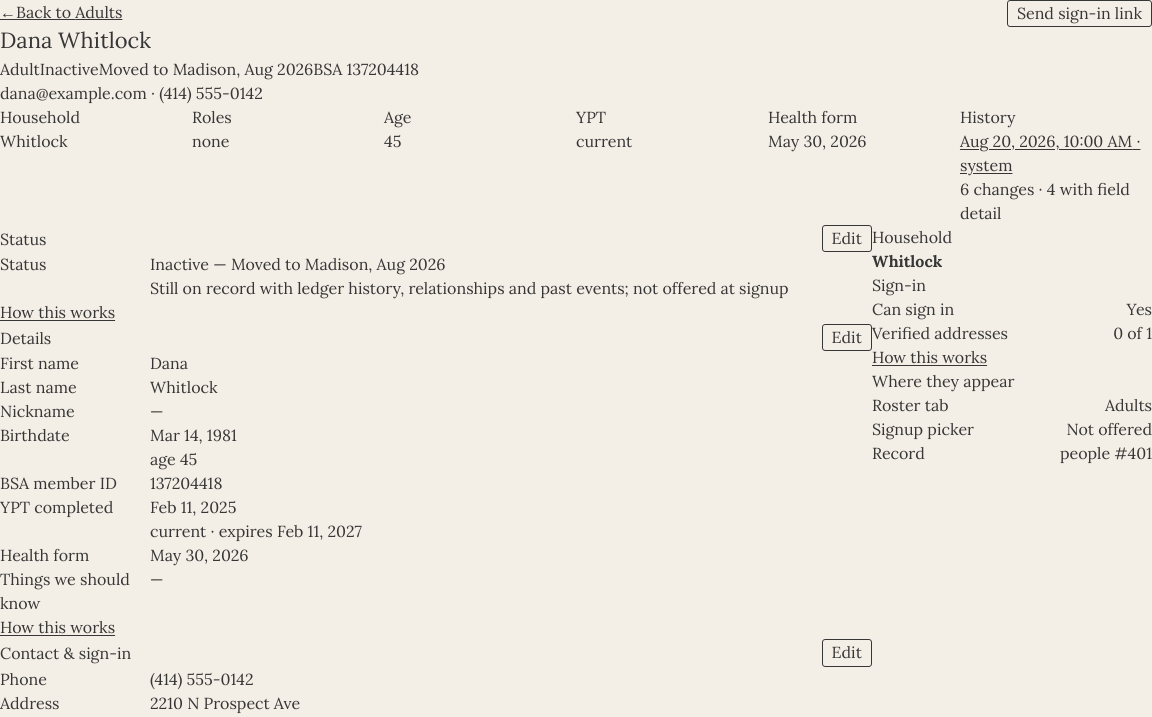
Test: Phase 4 — History card, section, chips and the full log › Leader_ClicksChipInsideFullLog_SeesDetail_ThenBackReturnsToLog
Click the button "Aug 20, 2026, 10:00 AM · system".
click(1056, 153)  # box [960,129,1151,177]
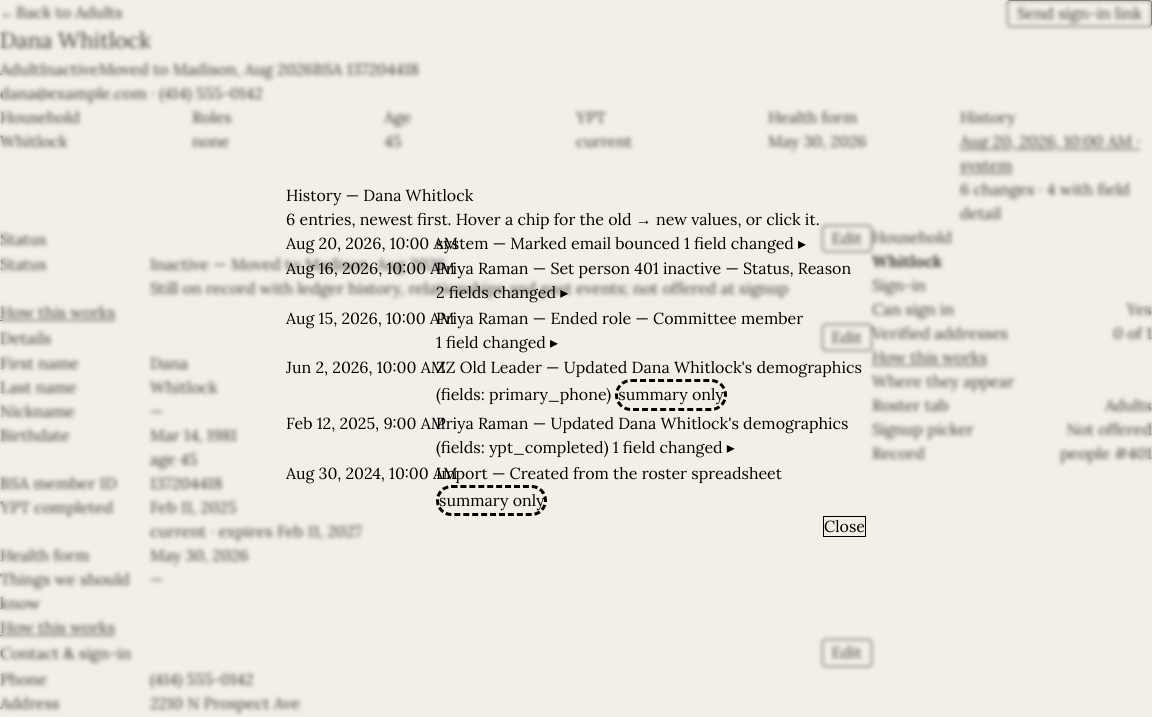
Click the button "1 field changed ▸" below "Feb 12, 2025, 9:00 AM".
click(674, 448)  # box [613,435,735,461]
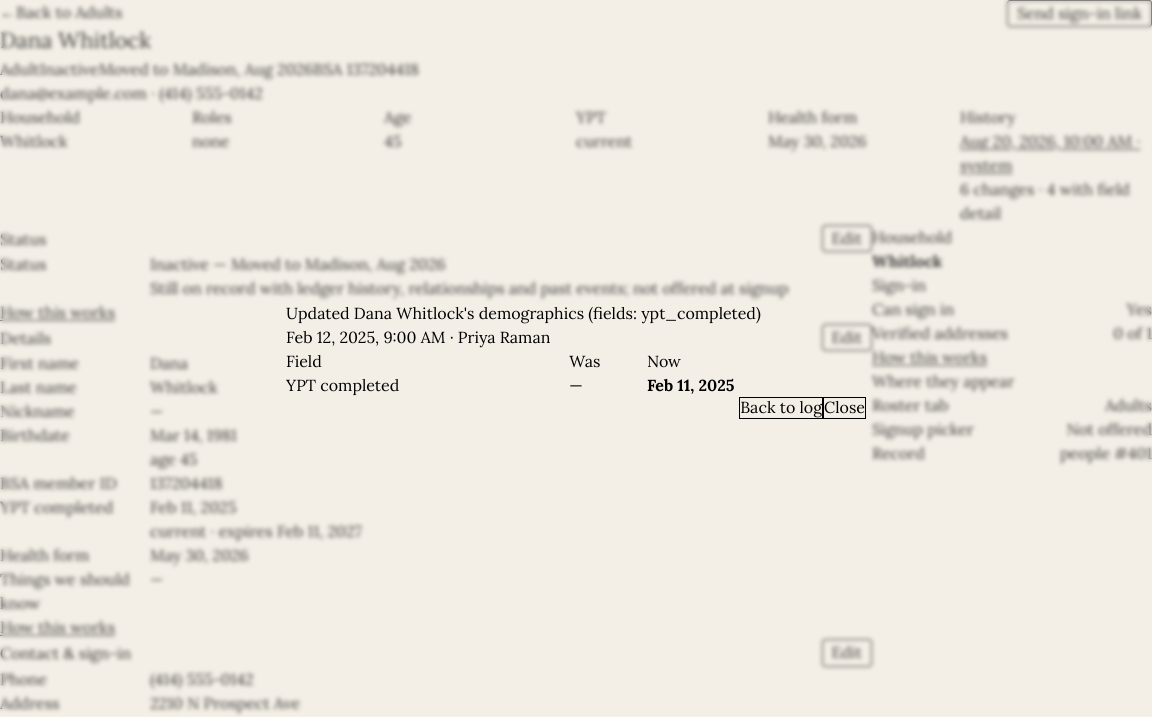
Check: the table is shown, box [286,349,866,397]
Check: the cell "YPT completed" is shown, box [286,373,569,397]
Click the button "Back to log".
click(781, 408)  # box [739,397,823,419]
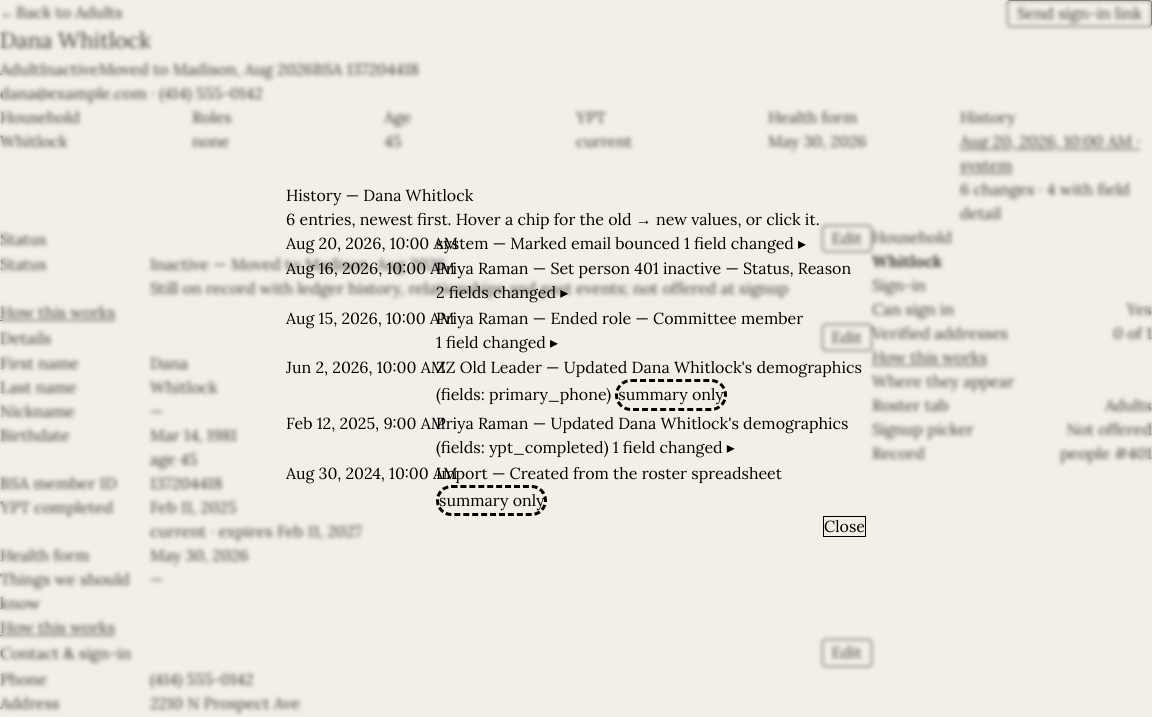
Check: the table is gone
